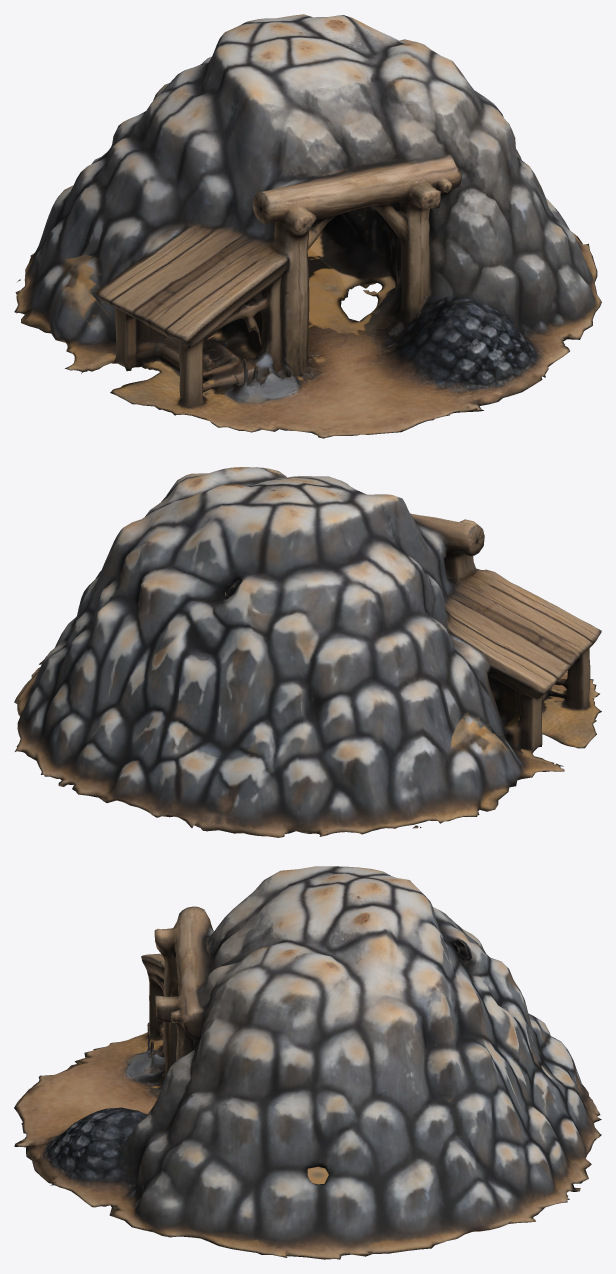
The model's file is Mine (Western) Base Model.fbx.
3 views of the same model, one above another, from view 1: azimuth 30°, elevation 25°; view 2: azimuth 150°, elevation 25°; view 3: azimuth 270°, elevation 25° (orthographic). The views are drawn at different scales.
Visible parts, largest first — view 1: Mesh_0; view 2: Mesh_0; view 3: Mesh_0.
Part boxes in pixels (x1,y1,x2,y2): Mesh_0: [14, 14, 601, 438]; Mesh_0: [14, 467, 601, 837]; Mesh_0: [14, 866, 601, 1259].
Bounding box in the file's own units: 200 × 94.5 × 200.
1 material, 1 textured.
